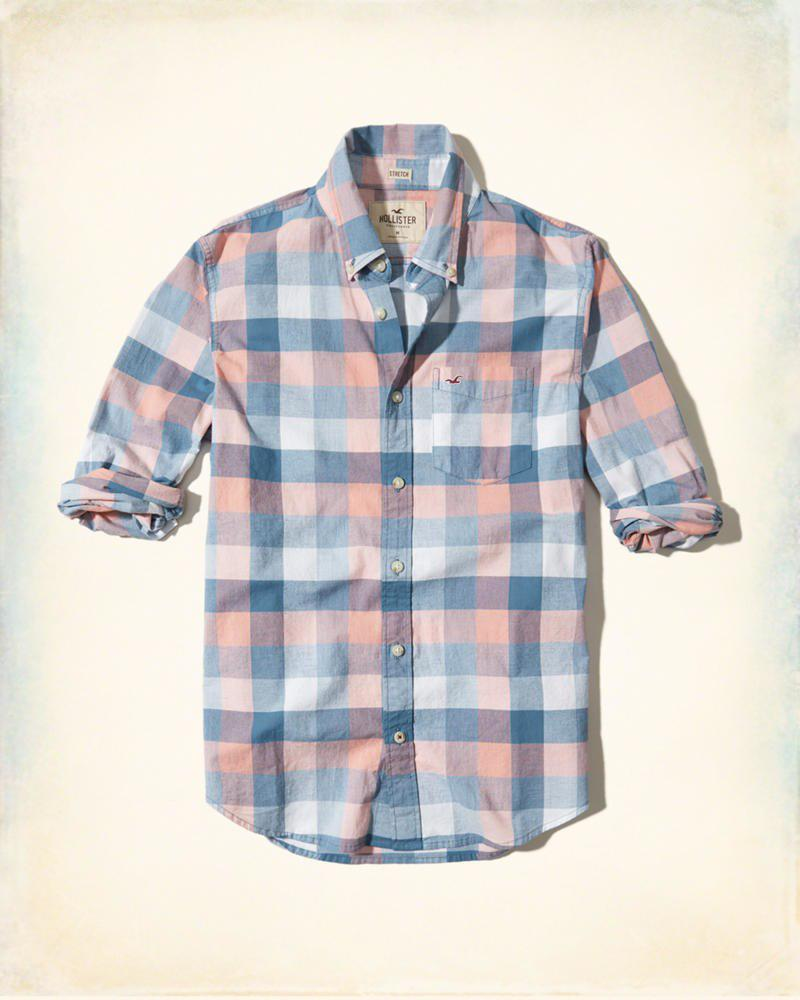teeshirt: (61, 116, 724, 889)
